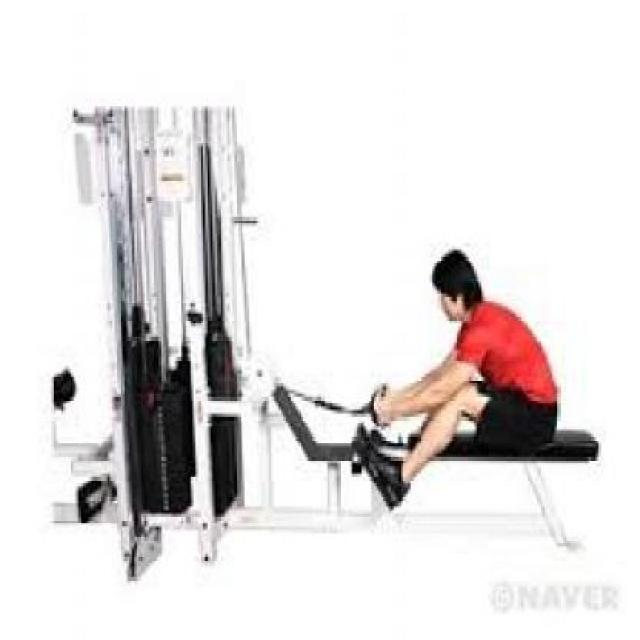Seated Cable Rows: (43, 89, 605, 585)
